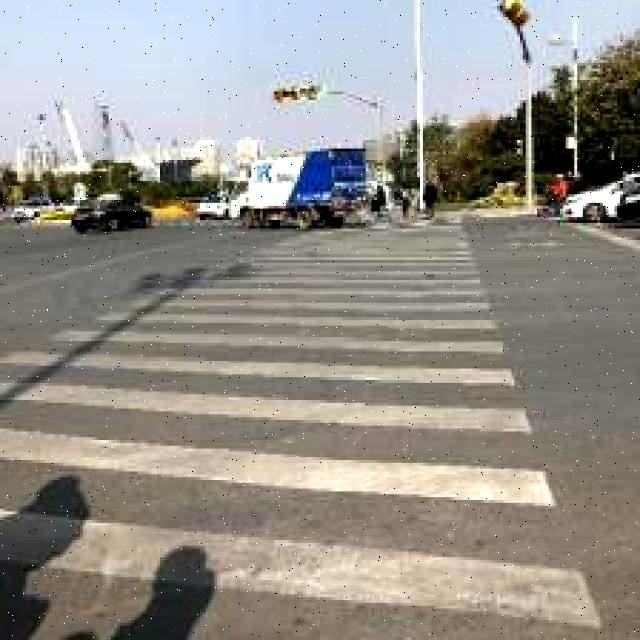crosswalk: (1, 222, 582, 638)
